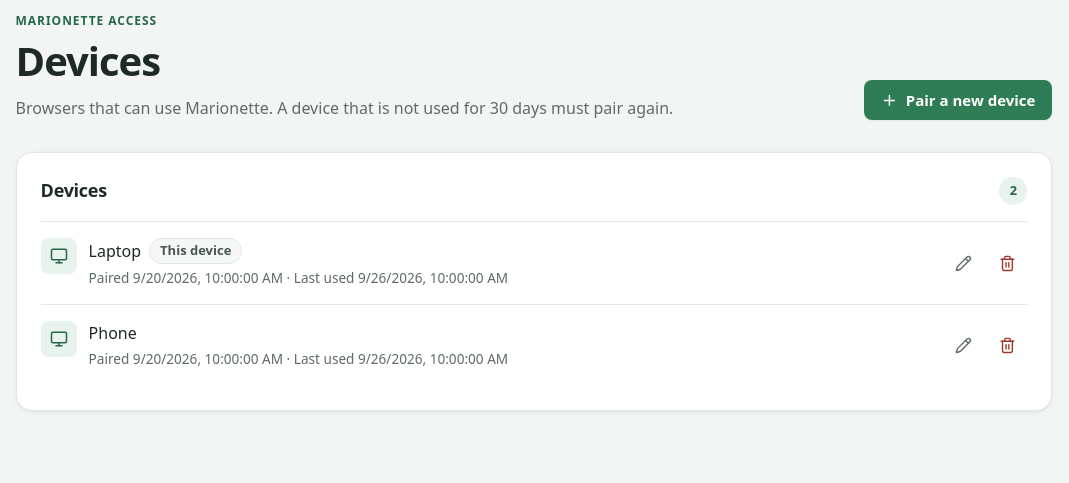
Test: DevicesView › renames a device in place and confirms inline
Click the 2nd button with class "device-rename-button": (963, 346) [943, 326, 983, 366]
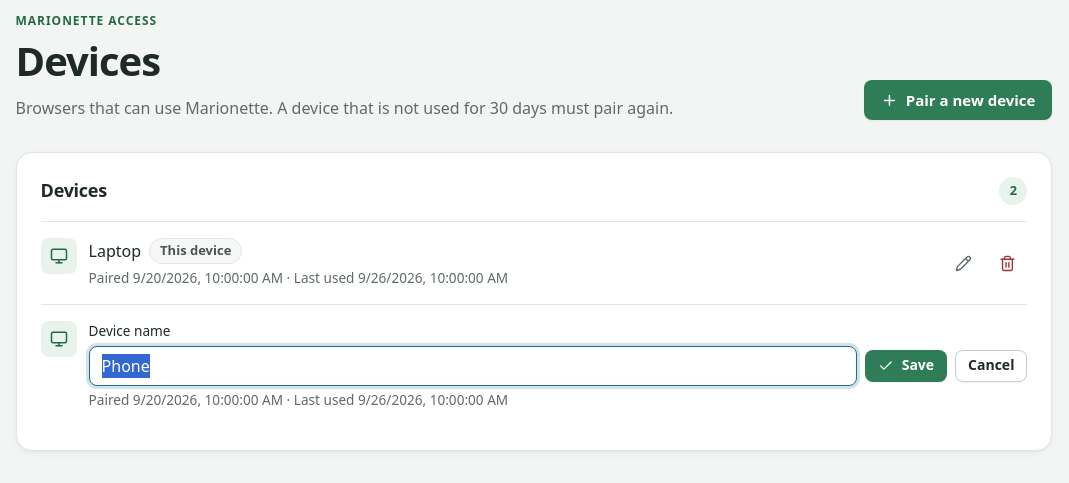
Expected: the label "Device name" is shown, [89, 322, 170, 340]
Expected: the field labelled "Device name" holds "Phone"
Replace the text in the field labelled "Device name" with "  Kitchen phone ": (473, 366) [89, 346, 857, 386]
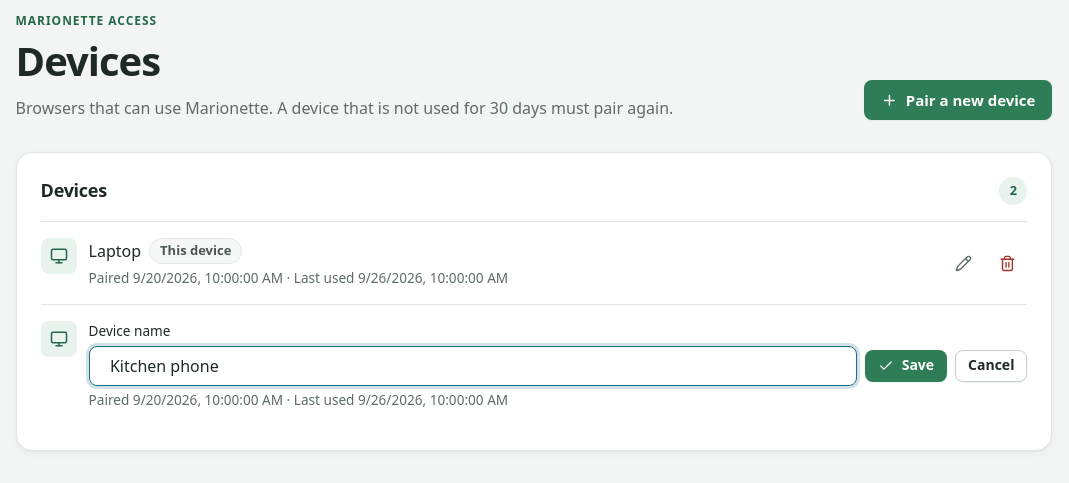
Submit the form with class "device-rename", box [89, 322, 1027, 386]
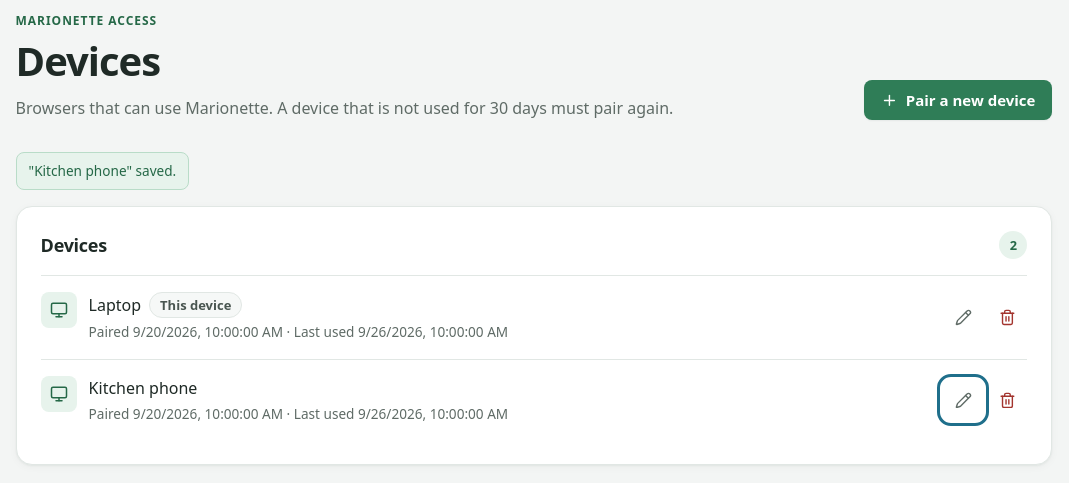
Expected: the message with class "request-feedback" reads "\"Kitchen phone\" saved.", [29, 161, 176, 180]
